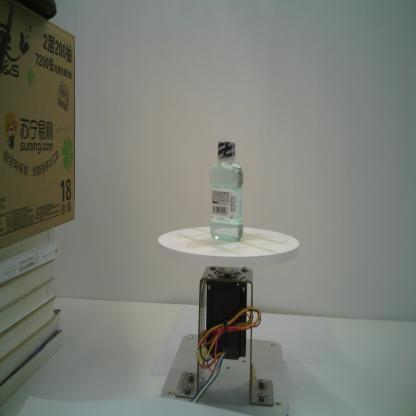Personal Hygiene: (210, 140, 244, 242)
